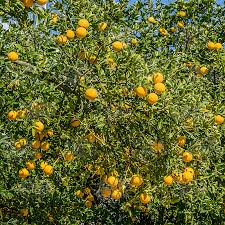orange: (83, 89, 98, 103), (146, 91, 157, 106)
